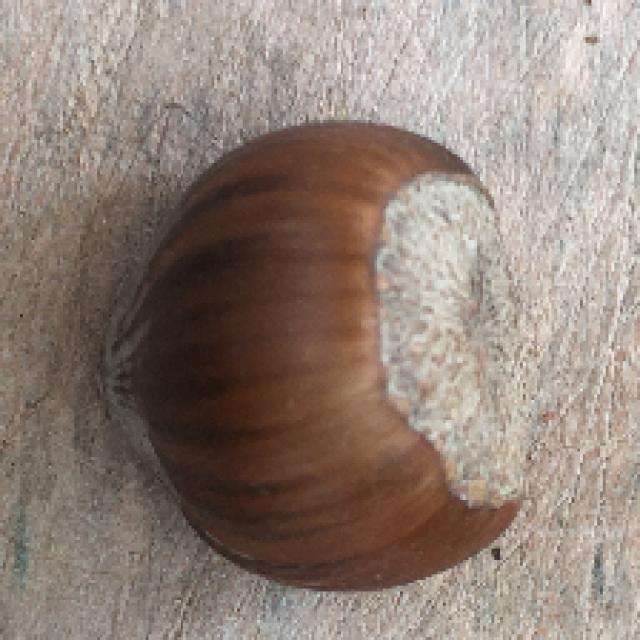qualityHazelnut: (90, 117, 532, 598)
